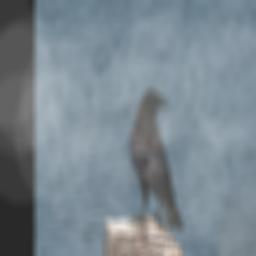Crow: (129, 89, 184, 235)
